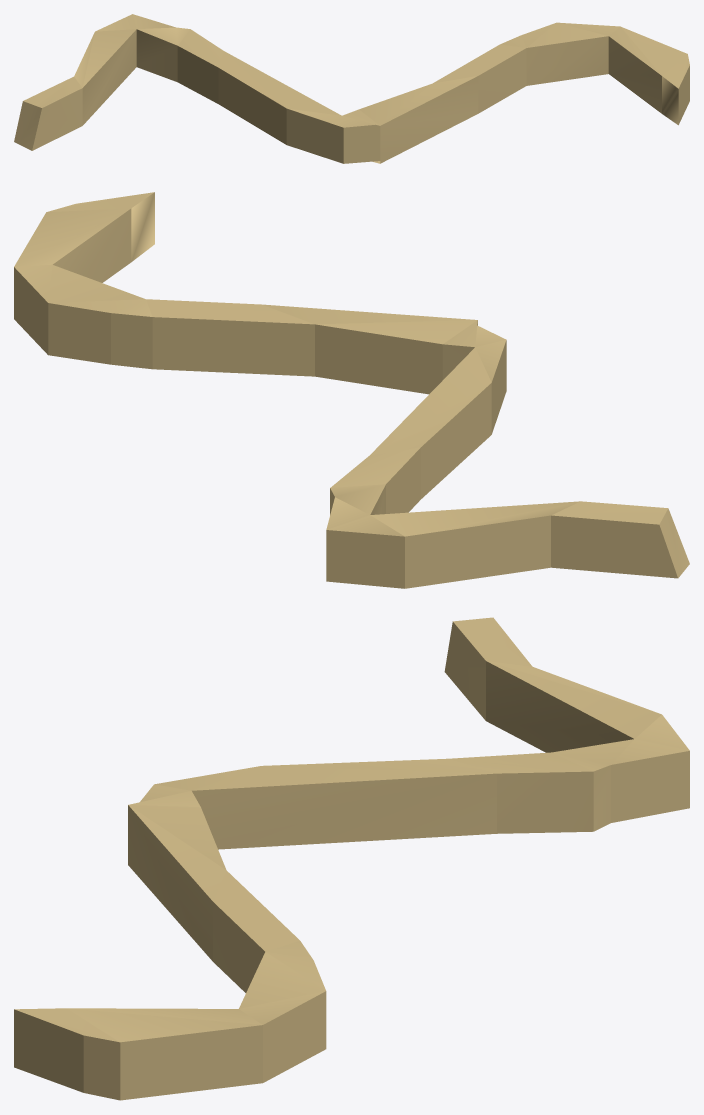
File: Sinew.glb
3 views of the same model, one above another, from view 1: azimuth 30°, elevation 25°; view 2: azimuth 150°, elevation 25°; view 3: azimuth 270°, elevation 25° (orthographic). The views are drawn at different scales.
Parts seen in each view (by area): view 1: Sinew; view 2: Sinew; view 3: Sinew.
Boxes of the visible parts, <box> form: Sinew: <box>14,14,689,163</box>; Sinew: <box>14,192,689,588</box>; Sinew: <box>14,617,689,1100</box>.
Size of the model in its own units: 0.8997 by 0.0591 by 0.594.
